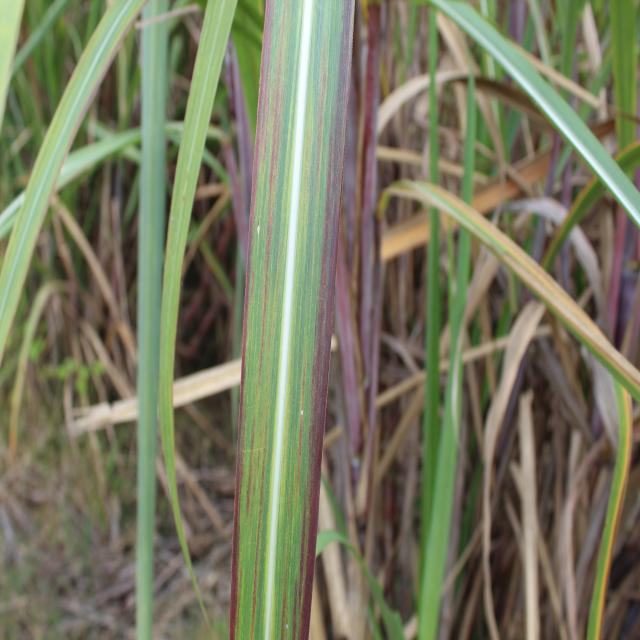Sugarcane: (231, 0, 354, 640), (0, 0, 154, 396), (157, 0, 241, 628), (427, 0, 640, 231), (134, 0, 164, 640)
